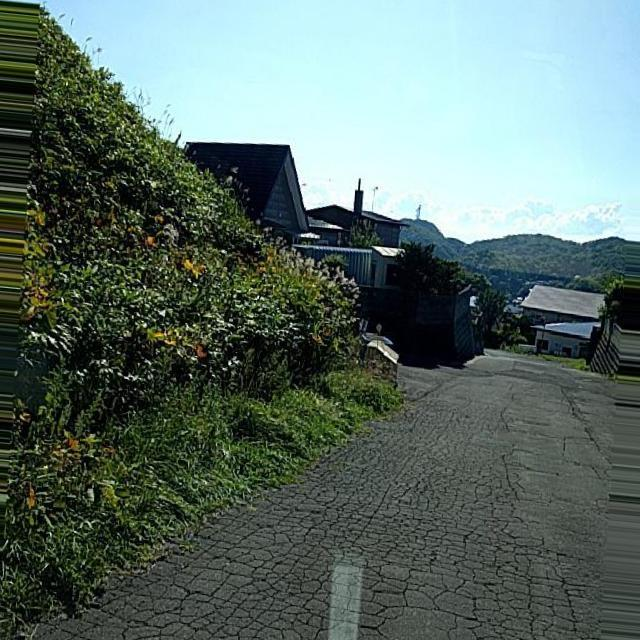Retak Buaya: (22, 425, 547, 640)
